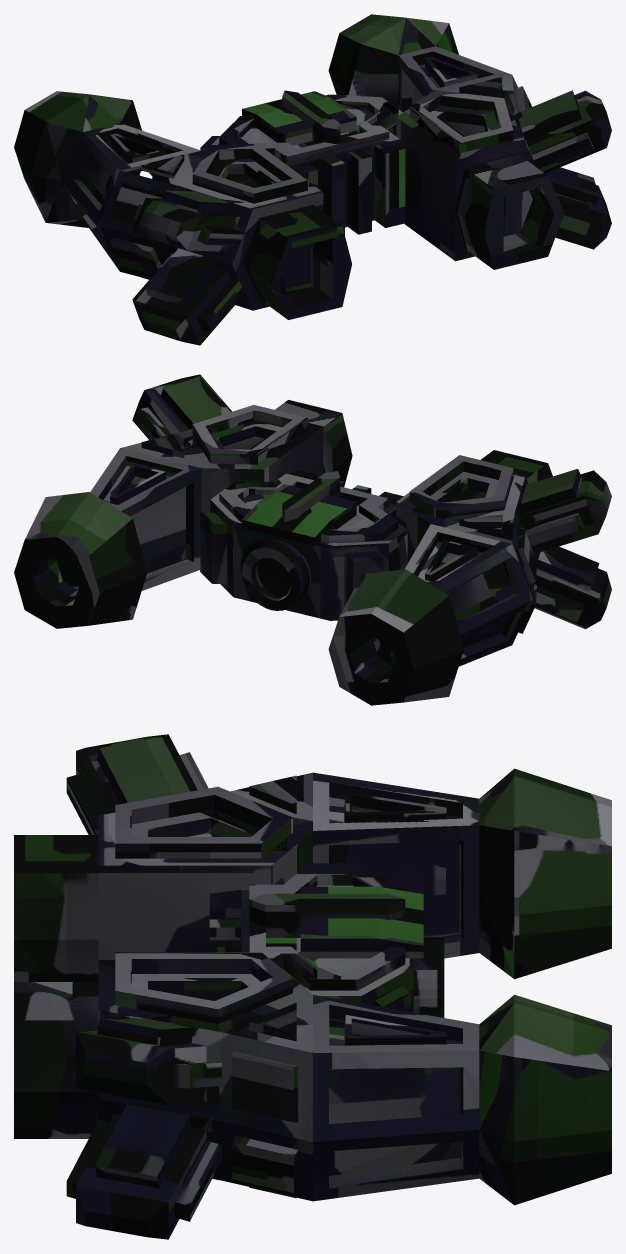
File: usership-green.obj
The picture shows the model from 3 angles, top to bottom: view 1: azimuth 30°, elevation 25°; view 2: azimuth 150°, elevation 25°; view 3: azimuth 270°, elevation 25°; orthographic projection. The views are drawn at different scales.
Visible parts, largest first — view 1: Spaceship.007_Spaceship-mesh.007_Cockpit-body, Spaceship.007_Spaceship-mesh.007_Wings, Spaceship.007_Spaceship-mesh.007_Black, Spaceship.007_Spaceship-mesh.007_Headplate; view 2: Spaceship.007_Spaceship-mesh.007_Cockpit-body, Spaceship.007_Spaceship-mesh.007_Wings, Spaceship.007_Spaceship-mesh.007_Headplate, Spaceship.007_Spaceship-mesh.007_Black; view 3: Spaceship.007_Spaceship-mesh.007_Cockpit-body, Spaceship.007_Spaceship-mesh.007_Wings, Spaceship.007_Spaceship-mesh.007_Black, Spaceship.007_Spaceship-mesh.007_Headplate.
Part boxes in pixels (x1,y1,x2,y2): Spaceship.007_Spaceship-mesh.007_Cockpit-body: [62, 46, 536, 310]; Spaceship.007_Spaceship-mesh.007_Wings: [14, 14, 611, 345]; Spaceship.007_Spaceship-mesh.007_Black: [242, 154, 564, 319]; Spaceship.007_Spaceship-mesh.007_Headplate: [242, 91, 356, 145]; Spaceship.007_Spaceship-mesh.007_Cockpit-body: [90, 405, 540, 666]; Spaceship.007_Spaceship-mesh.007_Wings: [14, 374, 611, 705]; Spaceship.007_Spaceship-mesh.007_Headplate: [242, 484, 356, 545]; Spaceship.007_Spaceship-mesh.007_Black: [275, 400, 552, 540]; Spaceship.007_Spaceship-mesh.007_Cockpit-body: [98, 772, 479, 1201]; Spaceship.007_Spaceship-mesh.007_Wings: [66, 734, 611, 1239]; Spaceship.007_Spaceship-mesh.007_Black: [14, 835, 98, 1138]; Spaceship.007_Spaceship-mesh.007_Headplate: [300, 886, 423, 958].
Size of the model in its own units: 9.66 by 2.71 by 7.31.
